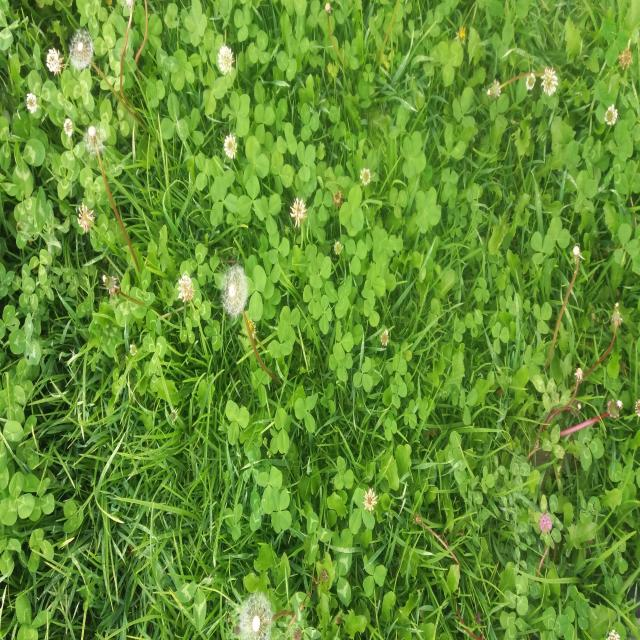Four Leaf Clover: (400, 131, 426, 179), (415, 187, 440, 234), (269, 487, 292, 533)
